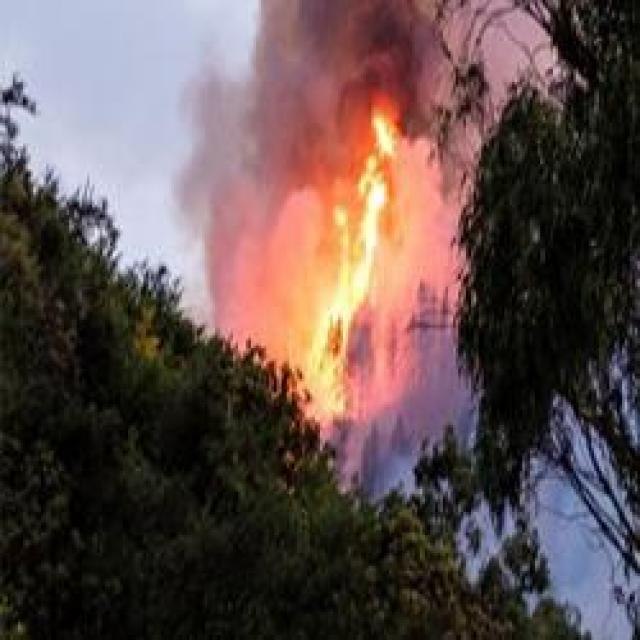fire: (347, 162, 394, 292), (334, 294, 358, 312)
smoke: (182, 79, 331, 278), (256, 0, 443, 85), (351, 316, 419, 494), (397, 137, 454, 279)
